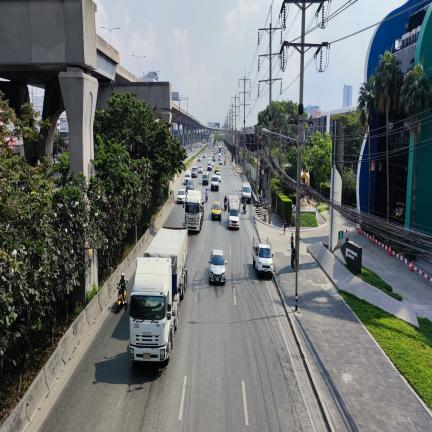car: (209, 250, 227, 283), (210, 174, 219, 191), (177, 189, 186, 204), (184, 171, 191, 185), (186, 179, 194, 190), (217, 172, 221, 182), (198, 166, 203, 173), (214, 166, 219, 173), (212, 156, 216, 162), (197, 155, 201, 161), (219, 159, 223, 165)
human: (291, 245, 296, 271), (283, 219, 287, 235), (290, 233, 294, 248), (345, 229, 349, 242), (205, 189, 208, 202)
motorbike: (117, 280, 127, 313), (243, 204, 246, 214), (205, 195, 208, 203), (224, 203, 227, 211), (224, 160, 226, 165)
pickup: (202, 173, 209, 185), (191, 166, 198, 178)
taxi: (211, 202, 222, 220), (214, 166, 220, 173)
truck: (128, 228, 188, 362), (127, 257, 178, 362), (143, 227, 188, 300), (253, 237, 273, 277), (185, 190, 204, 232), (227, 195, 240, 229), (242, 182, 251, 204), (210, 174, 219, 191), (207, 159, 212, 171), (176, 294, 178, 298)
